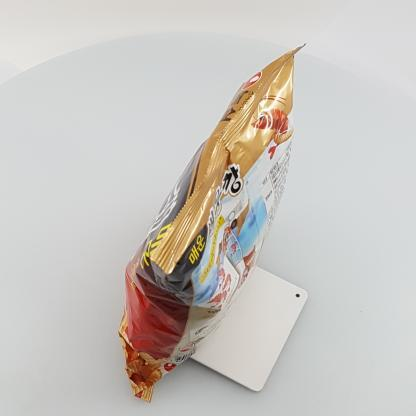Plastic Packaging: (113, 38, 320, 406)
